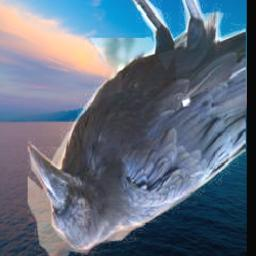Crow: (27, 0, 245, 256)
